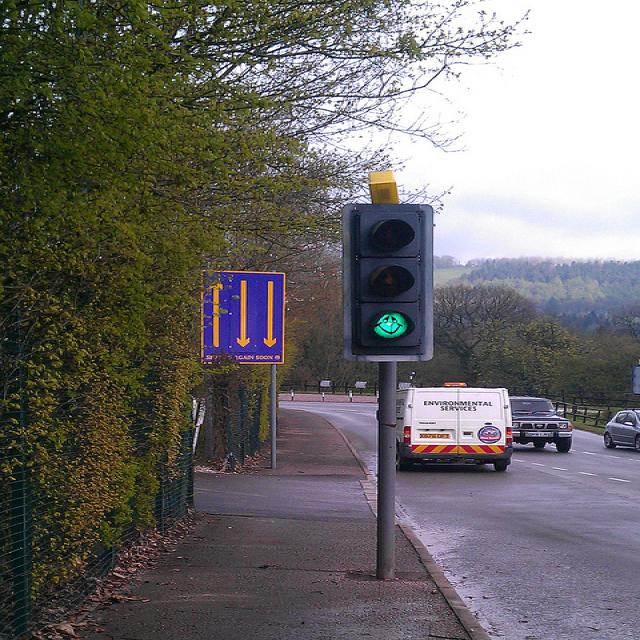Vehicle: (395, 388, 514, 472), (509, 397, 575, 454), (602, 410, 640, 450)
